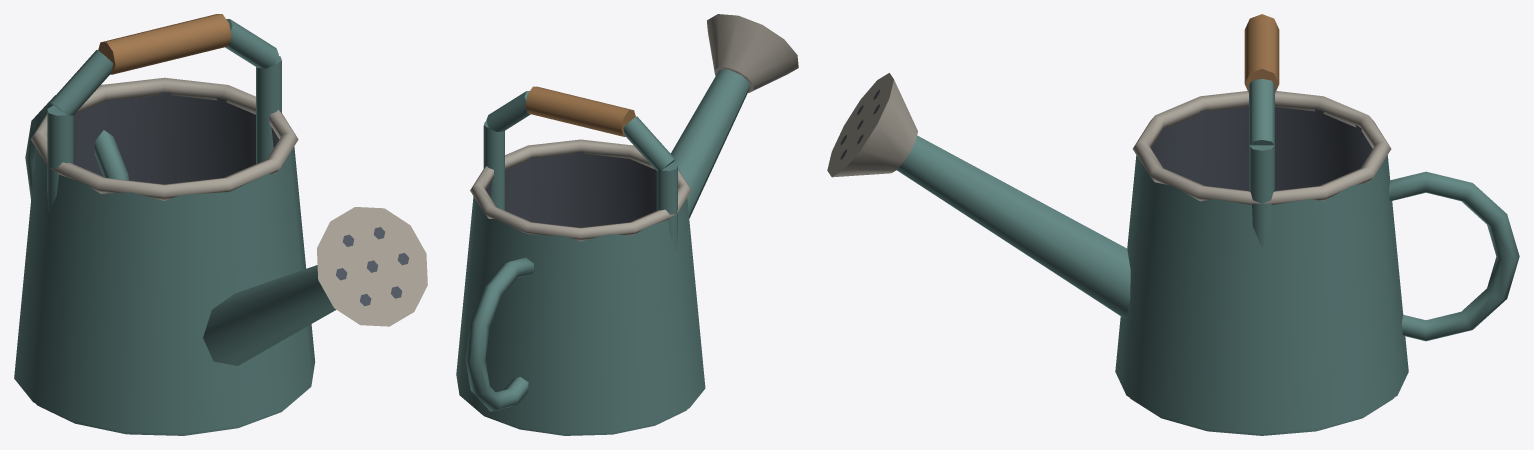
Rendered from komachi-watering-can.glb.
3 renders of one model, left to right at view 1: azimuth 30°, elevation 25°; view 2: azimuth 150°, elevation 25°; view 3: azimuth 270°, elevation 25°, orthographic. The views are drawn at different scales.
Parts seen in each view (by area): view 1: Prop_Body; view 2: Prop_Body; view 3: Prop_Body.
Part boxes in pixels (bbox=[...]): Prop_Body: bbox=[14, 14, 427, 435]; Prop_Body: bbox=[456, 14, 798, 435]; Prop_Body: bbox=[827, 14, 1519, 435].
Bounding box in the file's own units: 0.068 × 0.0855 × 0.1604.
